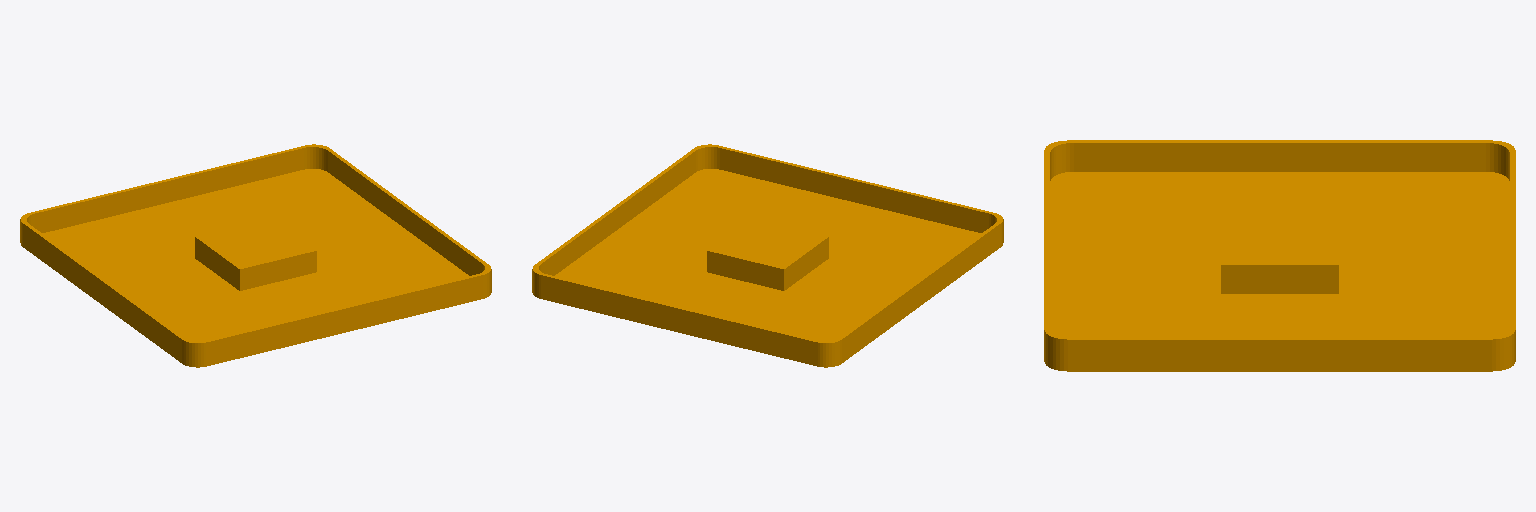
URDF robot description (arena):
<?xml version="1.0" encoding="utf-8"?>
<!-- =================================================================================== -->
<!-- |    This document was autogenerated by xacro from arena.urdf.xacro               | -->
<!-- |    EDITING THIS FILE BY HAND IS NOT RECOMMENDED                                 | -->
<!-- =================================================================================== -->
<robot name="arena">
  <link name="arena_link">
    <collision>
      <origin rpy="0 0 -4.71238898038" xyz="0 0 0"/>
      <!-- <origin xyz="0 0 0" rpy="0 0 0" /> -->
      <geometry>
        <mesh filename="package://hero_gazebo/worlds/models/arena_3/arena.dae" scale="1 1 1"/>
      </geometry>
    </collision>
    <visual>
      <origin rpy="0 0 -4.71238898038" xyz="0 0 0"/>
      <!-- <origin xyz="0 0 0" rpy="0 0 0" /> -->
      <geometry>
        <mesh filename="package://hero_gazebo/worlds/models/arena_3/arena.dae" scale="1 1 1"/>
      </geometry>
    </visual>
    <inertial>
      <origin rpy="0 0 0" xyz="0 0 0"/>
      <mass value="100"/>
      <inertia ixx="134.083333333" ixy="0" ixz="0" iyy="134.083333333" iyz="0" izz="134.083333333"/>
    </inertial>
  </link>
  <gazebo reference="arena_link">
    <static>true</static>
    <gravity>false</gravity>
    <selfCollide>false</selfCollide>
  </gazebo>
</robot>

--- What the picture shows (computed from the rendered views, not written in the file) ---
3 views of the same robot in one strip: view 1: azimuth 30°, elevation 25°; view 2: azimuth 150°, elevation 25°; view 3: azimuth 270°, elevation 25° (orthographic).
Robot: arena — 1 links, 0 joints (none); root link arena_link; default pose: all joints at 0.
Visible links, largest first — view 1: arena_link; view 2: arena_link; view 3: arena_link.
Link boxes in pixels (x1=…): arena_link: x1=20, y1=144, x2=491, y2=367; arena_link: x1=532, y1=144, x2=1003, y2=367; arena_link: x1=1044, y1=140, x2=1515, y2=371.
Bounding box of the posed robot: 4 × 4 × 0.3 m (x, y, z).
1 mesh visuals loaded from 1 distinct referenced files (1 Collada DAE).
